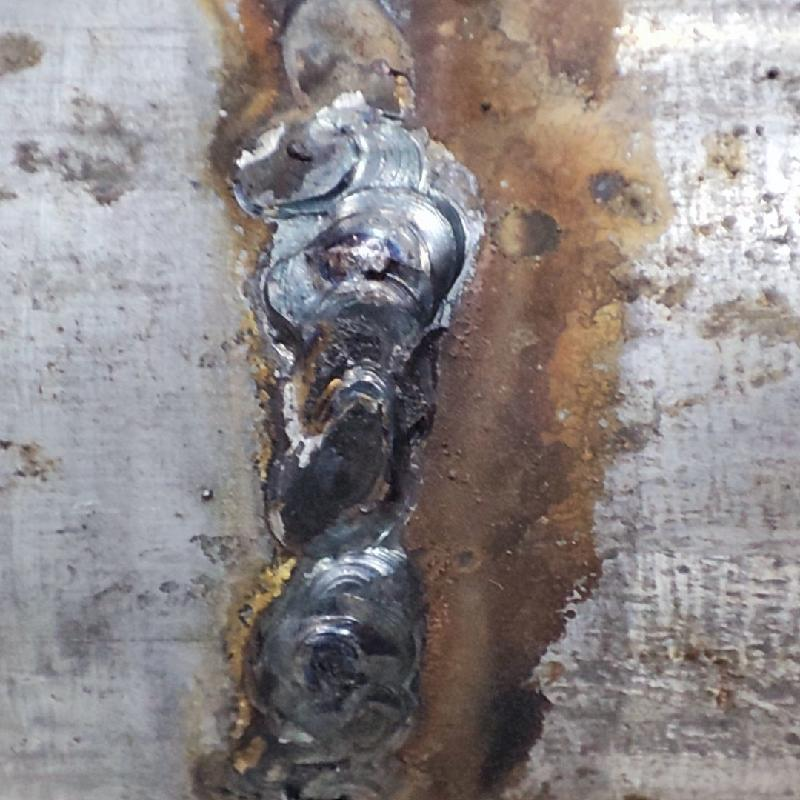Not_fully_soldered: (237, 1, 444, 190)
wrong_size: (233, 192, 472, 795)
